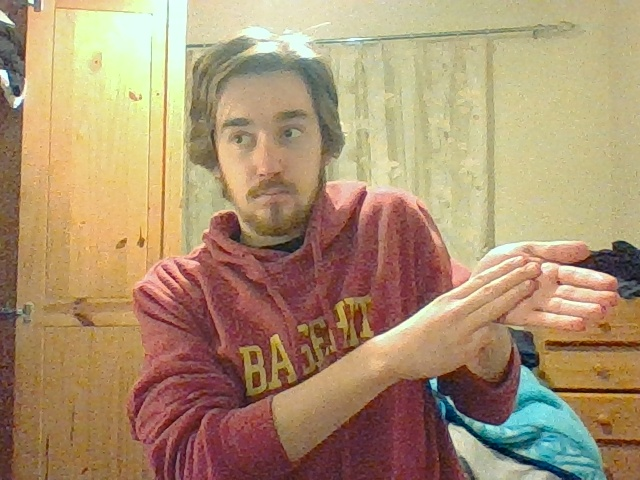mother: (456, 241, 621, 334)
